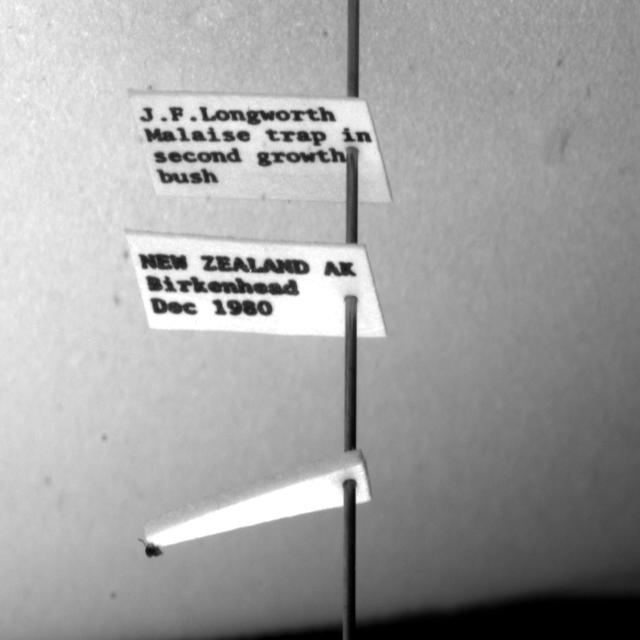typed_label: (130, 92, 391, 202), (126, 231, 386, 338)
